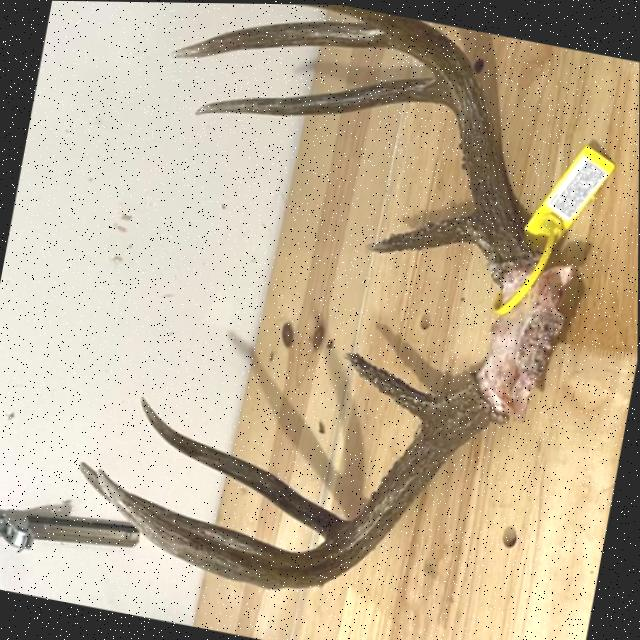L-F: (97, 374, 492, 588)
L-G1: (342, 349, 445, 418)
L-G2: (140, 394, 350, 539)
R-F: (301, 4, 533, 278)
R-G1: (363, 211, 481, 252)
R-G2: (194, 74, 449, 115)
R-G3: (171, 18, 390, 56)
